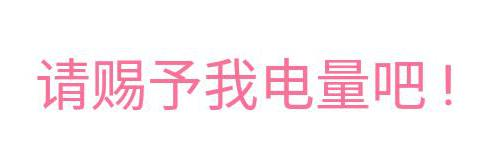TextView: (1, 1, 499, 165)
